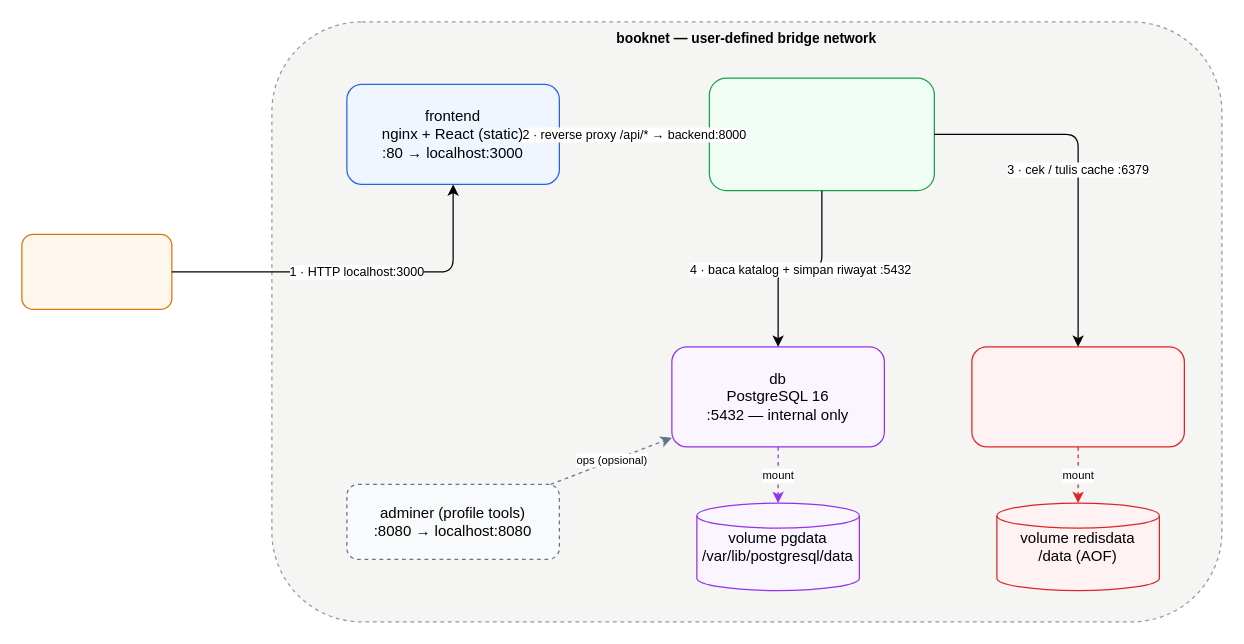
This 1244x644 diagram has some shape labels left out. The centre of each missing label's shape, as x and y in pixels:
"backend FastAPI + TF-IDF :8000 → localhost:8000" goes at point (821, 134).
"Browser (pengguna)" goes at point (96, 271).
"redis Redis 7 (cache, TTL 300s) :6379 — internal only" goes at point (1077, 396).
